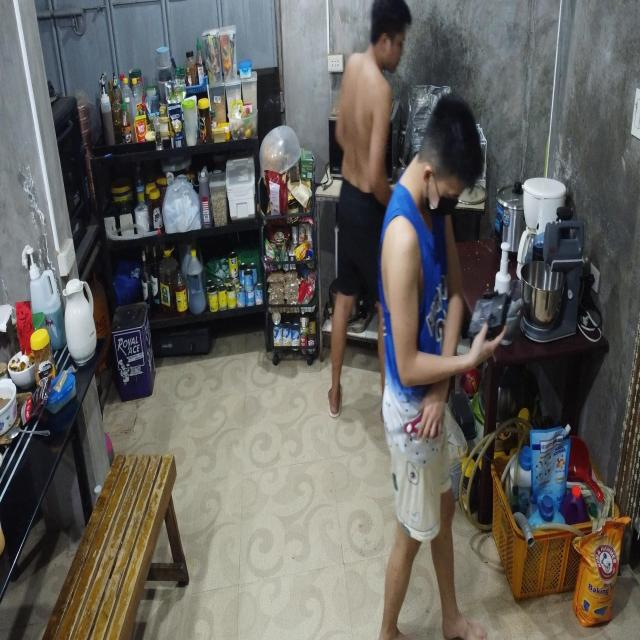scissor: (390, 413, 438, 439)
